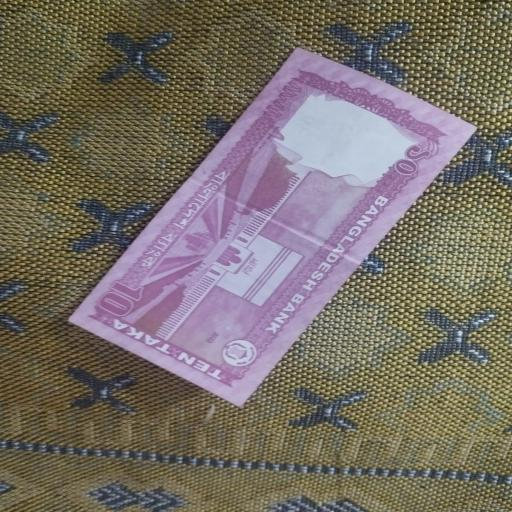10taka: (65, 47, 480, 401)
